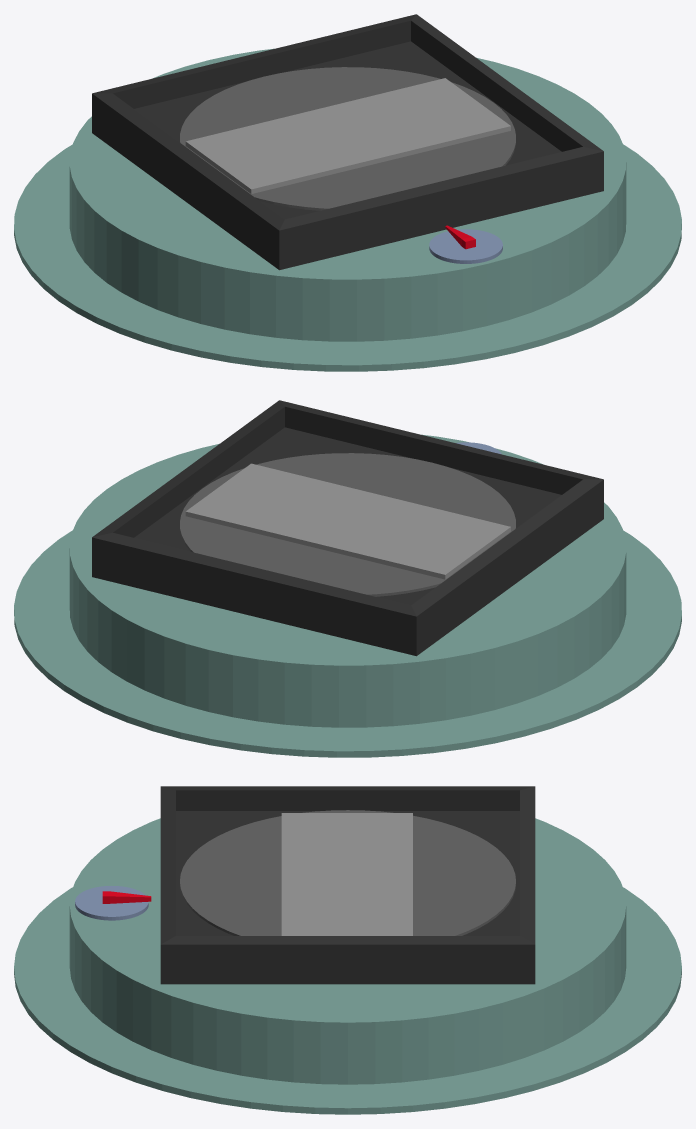
File: Sekunda.fbx
3 views of the same model, one above another, from view 1: azimuth 30°, elevation 25°; view 2: azimuth 150°, elevation 25°; view 3: azimuth 270°, elevation 25° (orthographic).
Parts seen in each view (by area): view 1: Цилиндр.001, Куб, Цилиндр, Куб.002, Цилиндр.002, Цилиндр.004; view 2: Цилиндр.001, Куб, Цилиндр, Куб.002, Цилиндр.002; view 3: Цилиндр.001, Куб, Цилиндр, Цилиндр.002, Куб.002, Цилиндр.004, Куб.001.
Part boxes in pixels (bbox=[...]): Цилиндр.001: bbox=[69, 48, 626, 341]; Куб: bbox=[92, 14, 603, 270]; Цилиндр: bbox=[14, 144, 681, 371]; Куб.002: bbox=[185, 78, 510, 193]; Цилиндр.002: bbox=[180, 67, 515, 210]; Цилиндр.004: bbox=[429, 229, 502, 263]; Цилиндр.001: bbox=[69, 434, 626, 727]; Куб: bbox=[92, 400, 603, 656]; Цилиндр: bbox=[14, 530, 681, 757]; Куб.002: bbox=[185, 463, 510, 579]; Цилиндр.002: bbox=[180, 453, 515, 596]; Цилиндр.001: bbox=[69, 818, 626, 1084]; Куб: bbox=[160, 786, 535, 984]; Цилиндр: bbox=[14, 887, 681, 1114]; Цилиндр.002: bbox=[180, 810, 515, 935]; Куб.002: bbox=[281, 813, 412, 935]; Цилиндр.004: bbox=[75, 886, 148, 920]; Куб.001: bbox=[102, 891, 151, 903].
Size of the model in its own units: 92.69 by 16.92 by 92.69.
